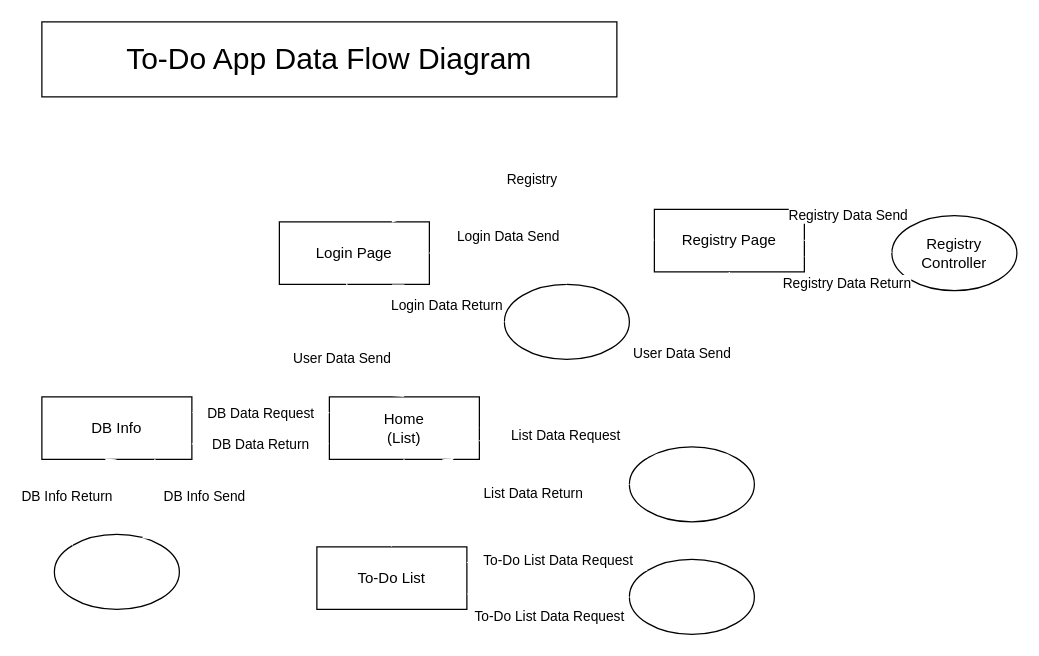
The diagram is 1039 pixels wide and 656 high, and some of its shapes have lost their labels. The shapes that lost their labels are listed below. From the top down, each one's box as (x1, y1, x2, y2) in pixels, then its label:
(503, 283, 629, 359): Login Controller
(628, 446, 754, 522): List Controller
(53, 533, 179, 609): DB Info Controller
(628, 558, 754, 634): To-Do List Controller
